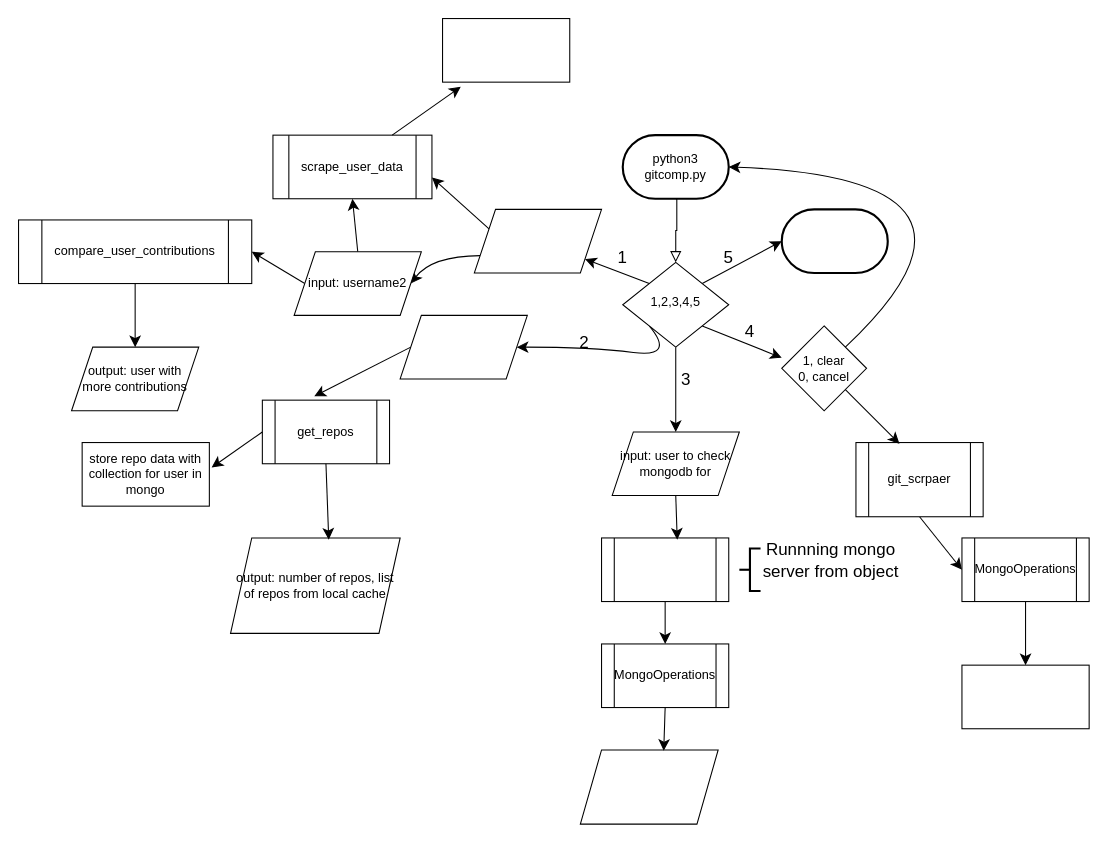
Image size: 1108x843. Some labels were removed from this diagram. Each missing label, with the centre of its shape:
"cache data locally store user data in mongo" goes at pixel 505 49.
"Data Cleared from collection" goes at pixel 1025 696.
"git_scraper" goes at pixel 664 569.
"input: user who's repos to scrape" goes at pixel 463 346.
"input: username1" goes at pixel 537 240.
"output: user object in Mongo object" goes at pixel 648 786.
"Program close" goes at pixel 834 240.
